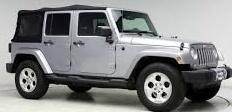SUV: (7, 6, 232, 112)
